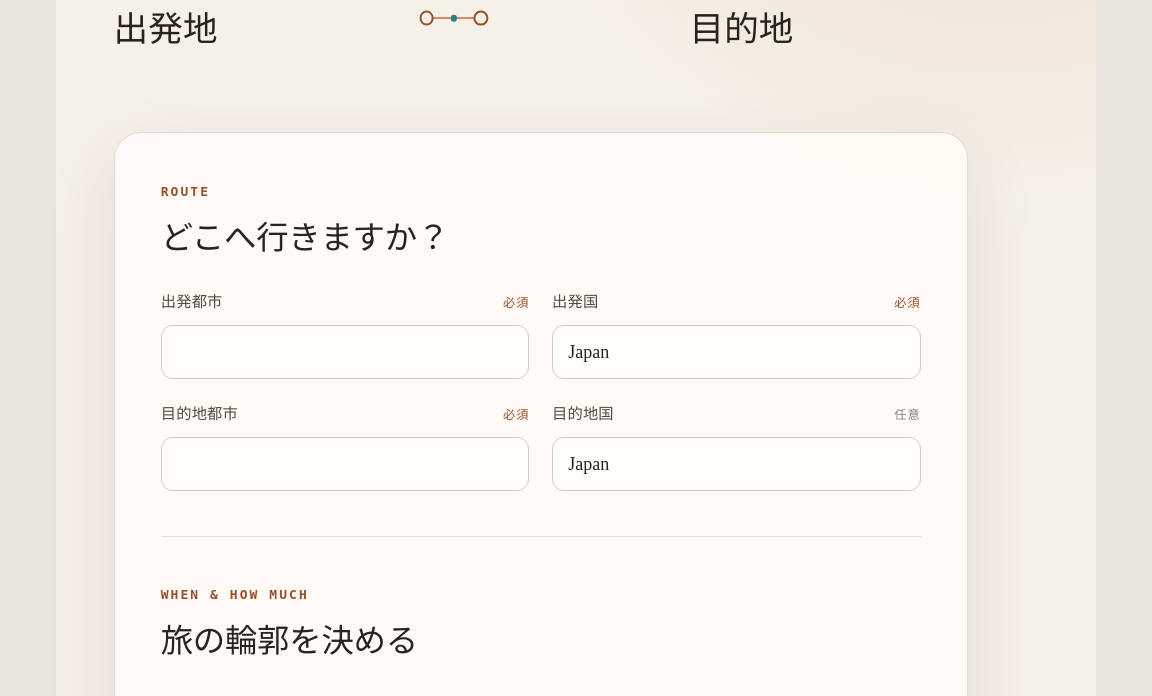
Test: JourneyCreationPage › 異常系: 旅程生成の失敗は画像要求の完了を待たずに表示する
(page scrolled)
Type "千葉" into the field labelled "出発都市 必須".
click(345, 352); type("千葉")  # box [161,325,530,379]
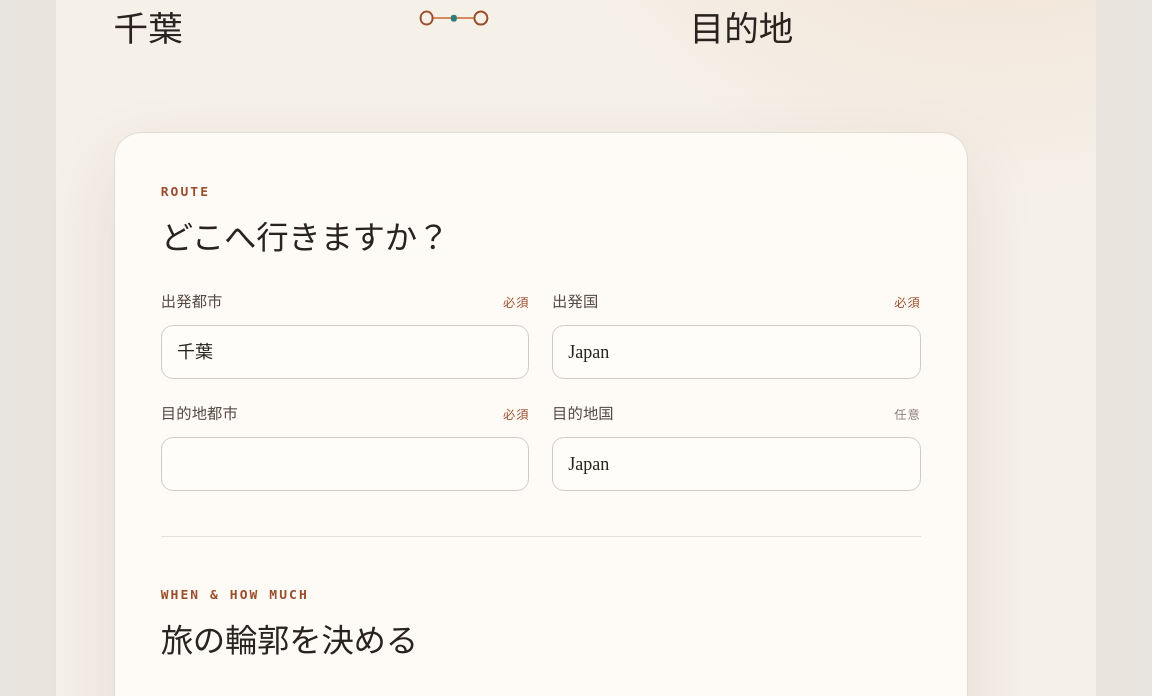
Type "宇都宮" into the field labelled "目的地都市 必須".
click(345, 464); type("宇都宮")  # box [161,437,530,491]
(page scrolled)
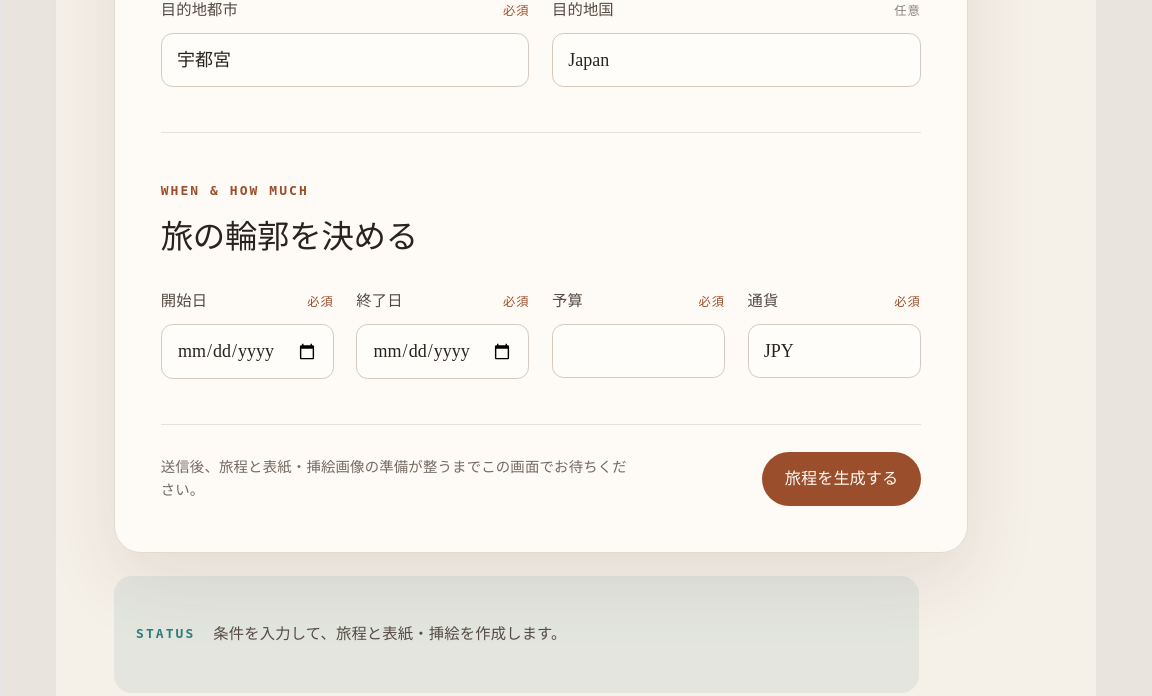
Type "2026-10-23" into the date field with id "journey-start_date".
click(247, 352); type("2026-10-23")  # box [161,324,334,379]
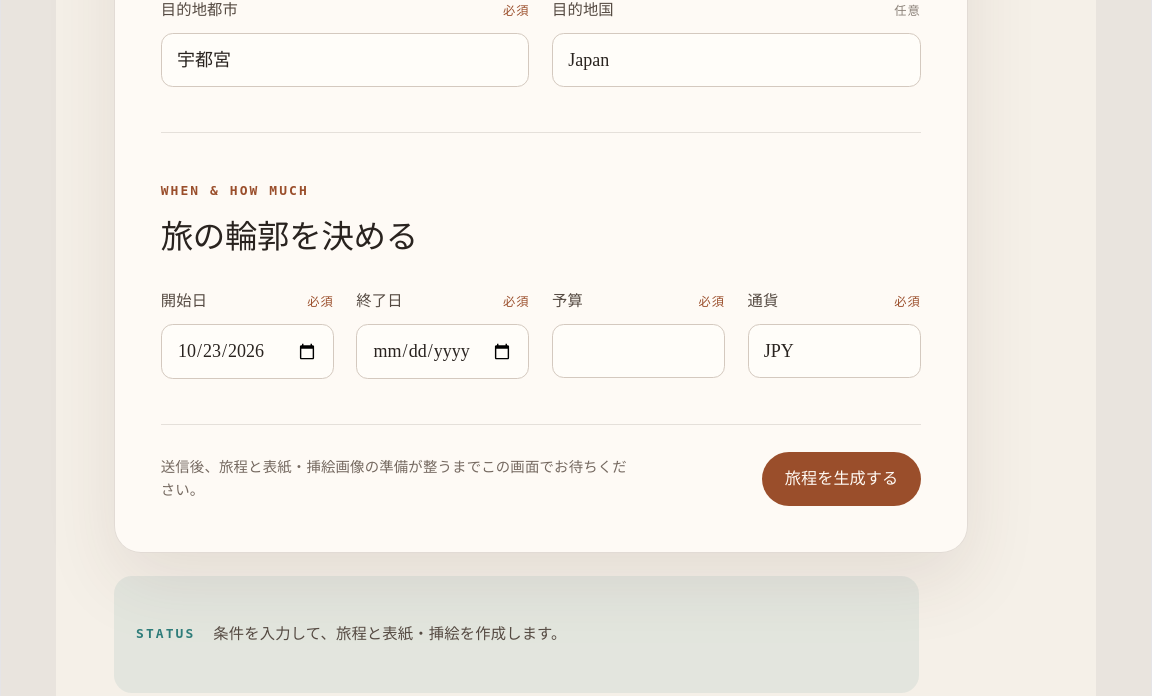
Type "2026-10-25" into the date field with id "journey-end_date".
click(443, 352); type("2026-10-25")  # box [356,324,529,379]
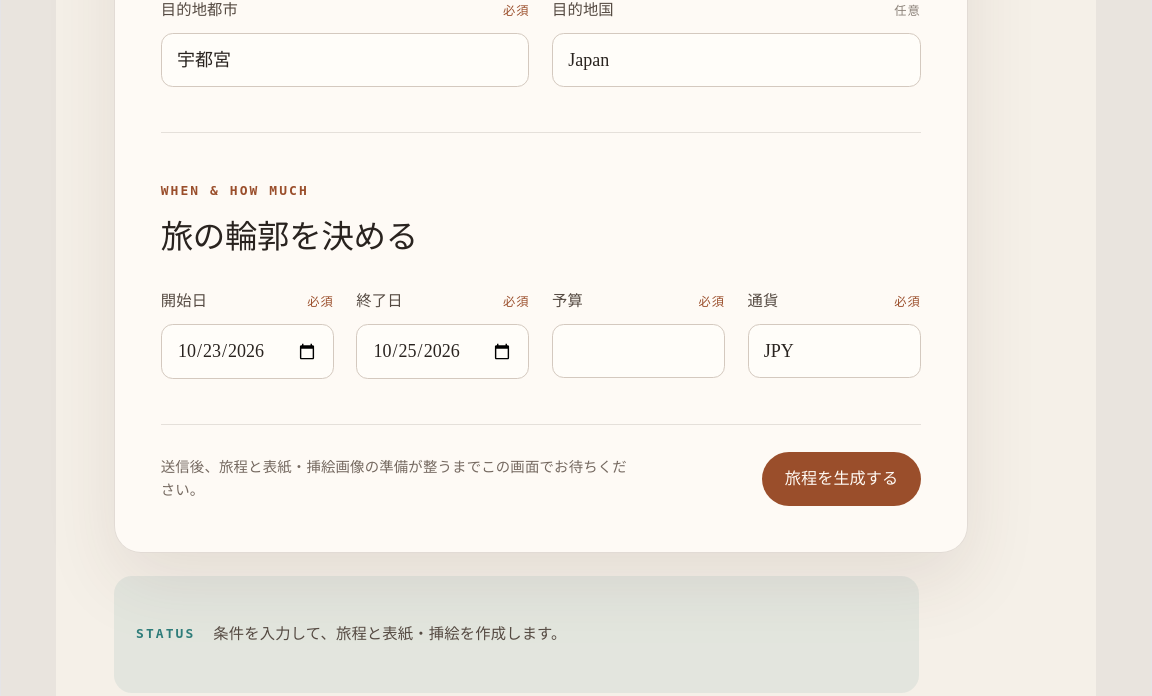
Type "90000" into the number field labelled "予算 必須".
click(638, 351); type("90000")  # box [552,324,725,378]
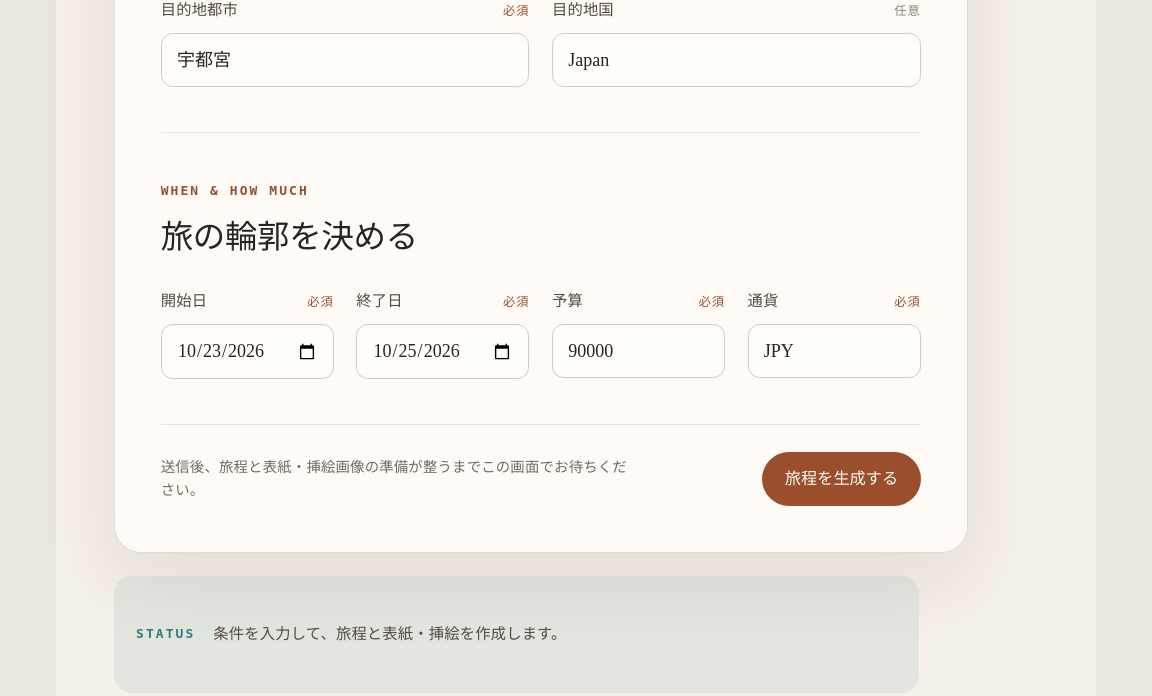
Click the button "旅程を生成する".
click(842, 479)  # box [762,452,921,506]
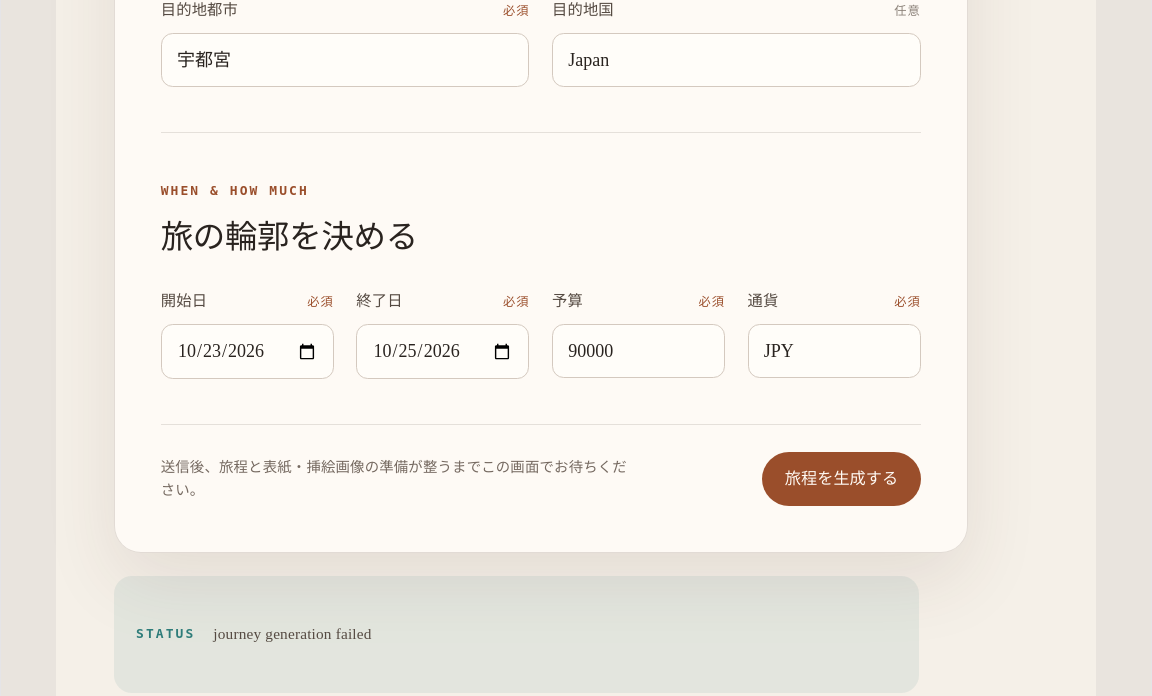
expect the text "journey generation failed" is shown: met, box [213,625,372,642]
